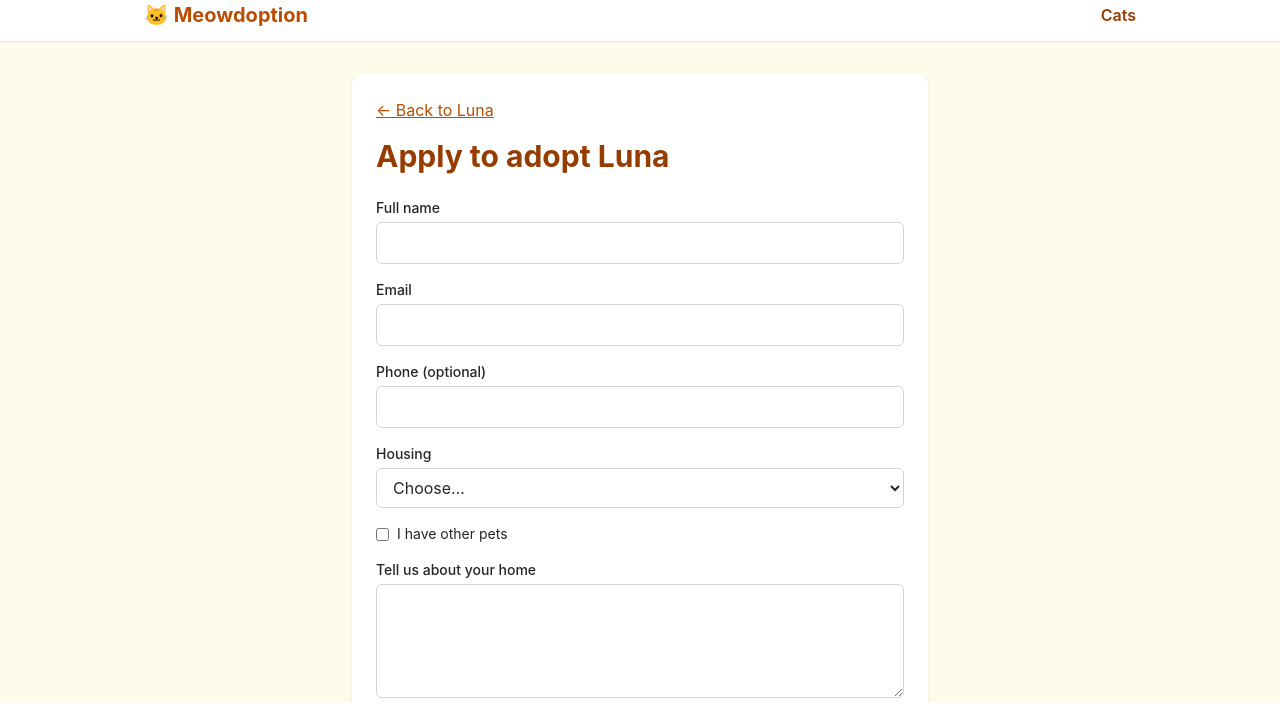
Test: ApplyPage › submits the form and thanks the visitor
Type "Jana Nováková" into the field labelled "Full name" at x=640, y=243, box [376,222,904,264]
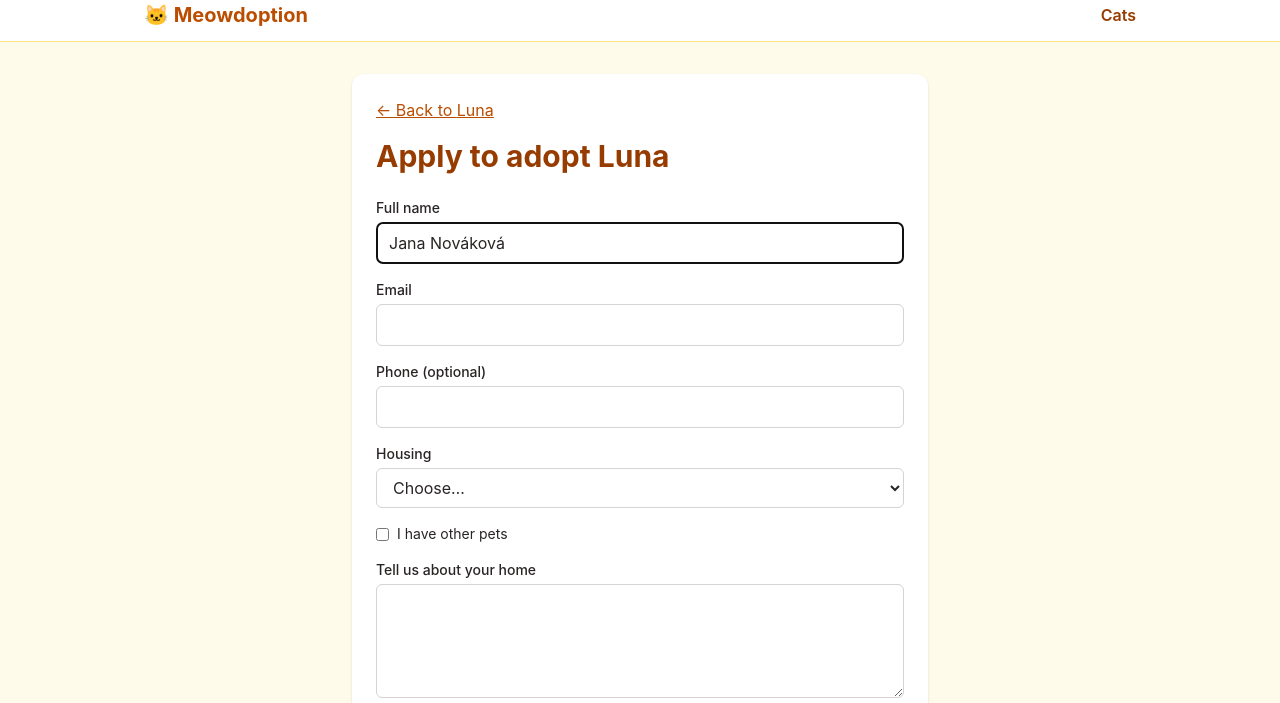
Type "jana@example.com" into the field labelled "Email" at x=640, y=325, box [376,304,904,346]
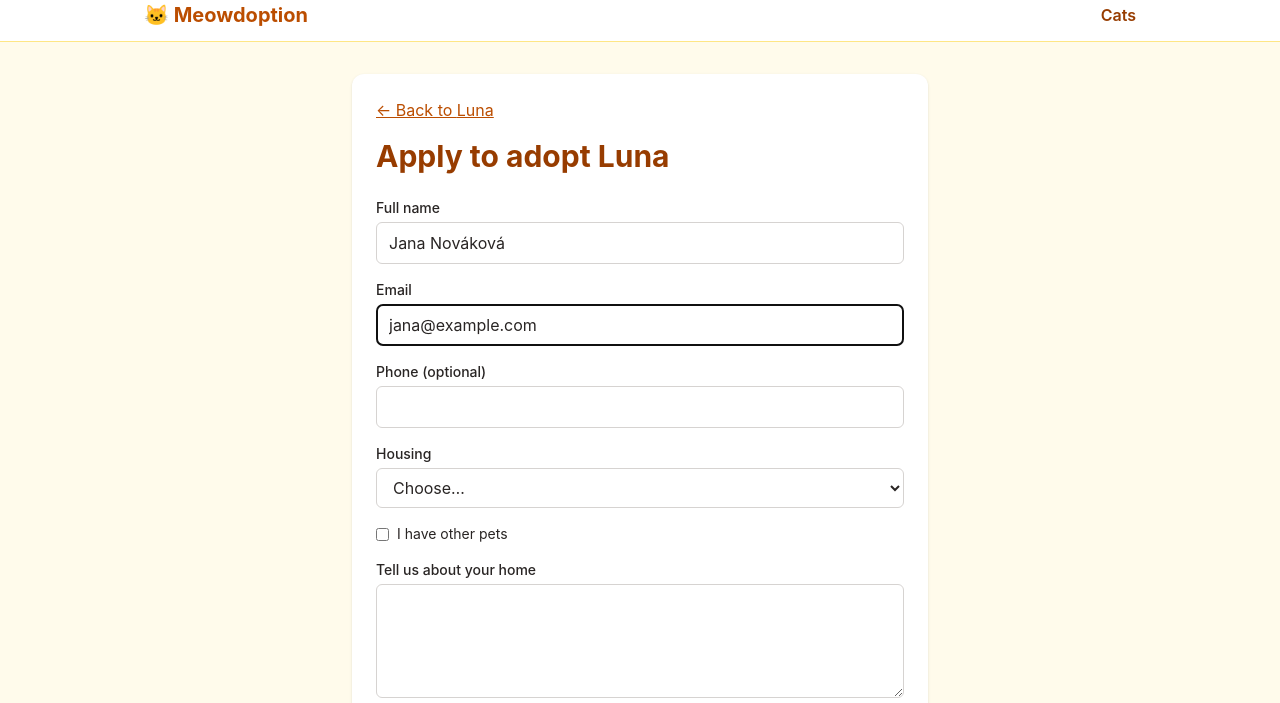
Select "Apartment" in the dropdown labelled "Housing" at x=640, y=488, box [376,468,904,508]
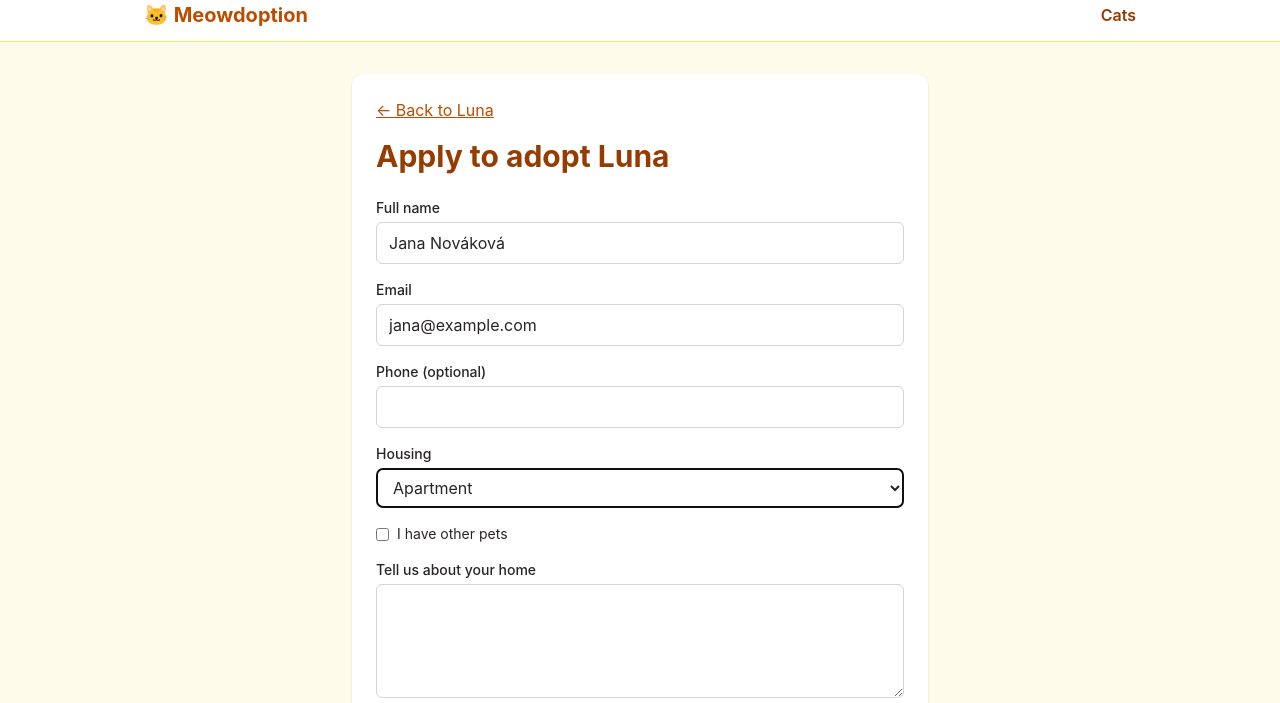
Click the checkbox labelled "I have other pets" at x=382, y=534, box [376,528,389,540]
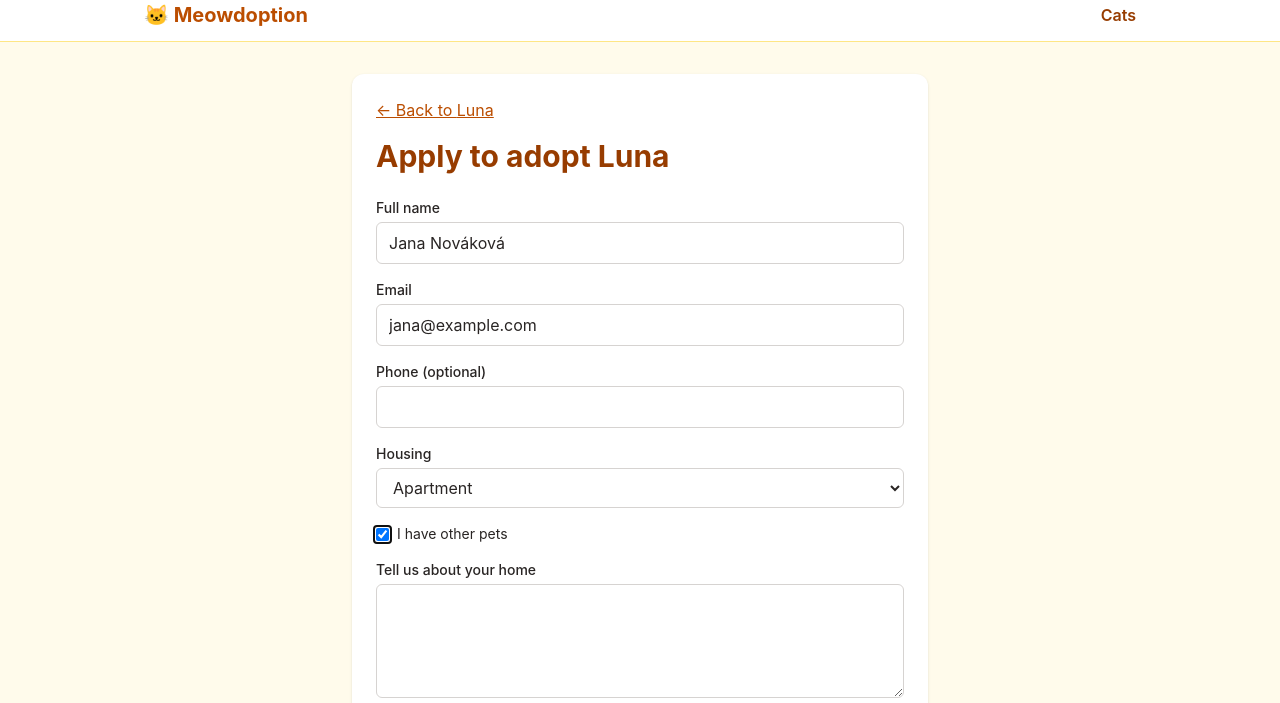
Type "Quiet flat." into the text box labelled "Tell us about your home" at x=640, y=641, box [376,584,904,698]
(page scrolled)
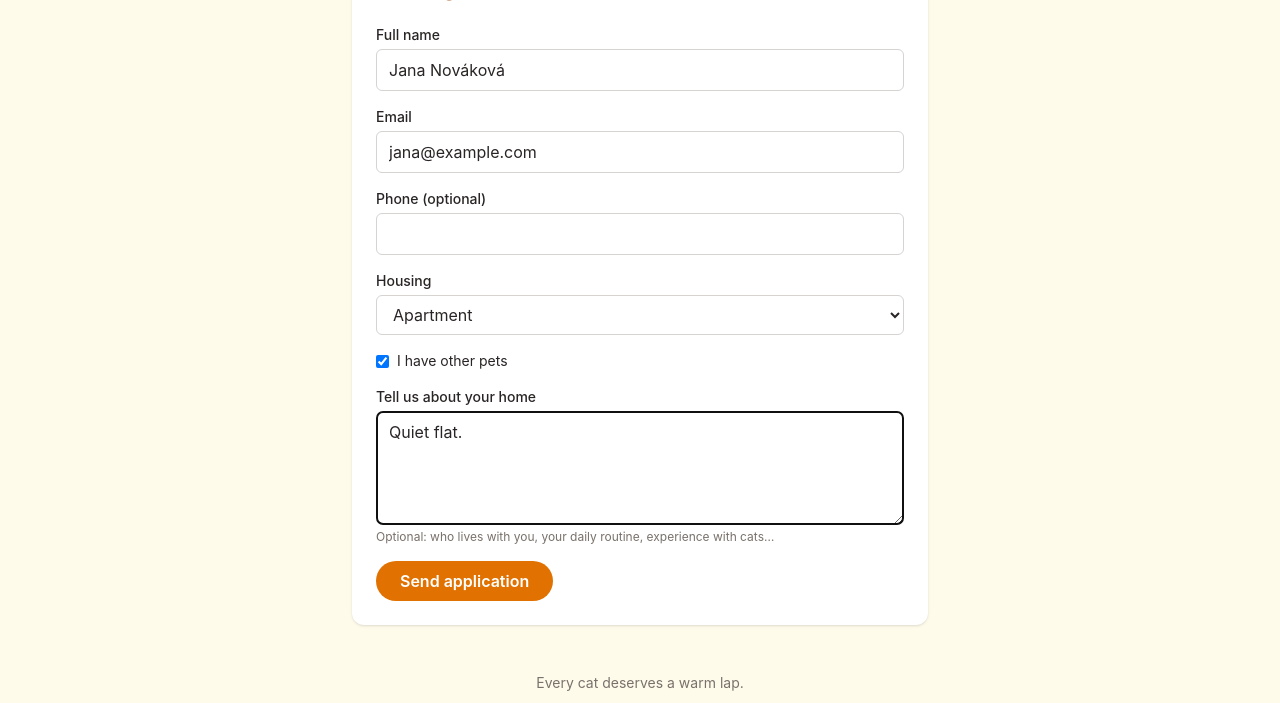
Click the button "Send application" at x=465, y=581, box [376,561,553,601]
(page scrolled)
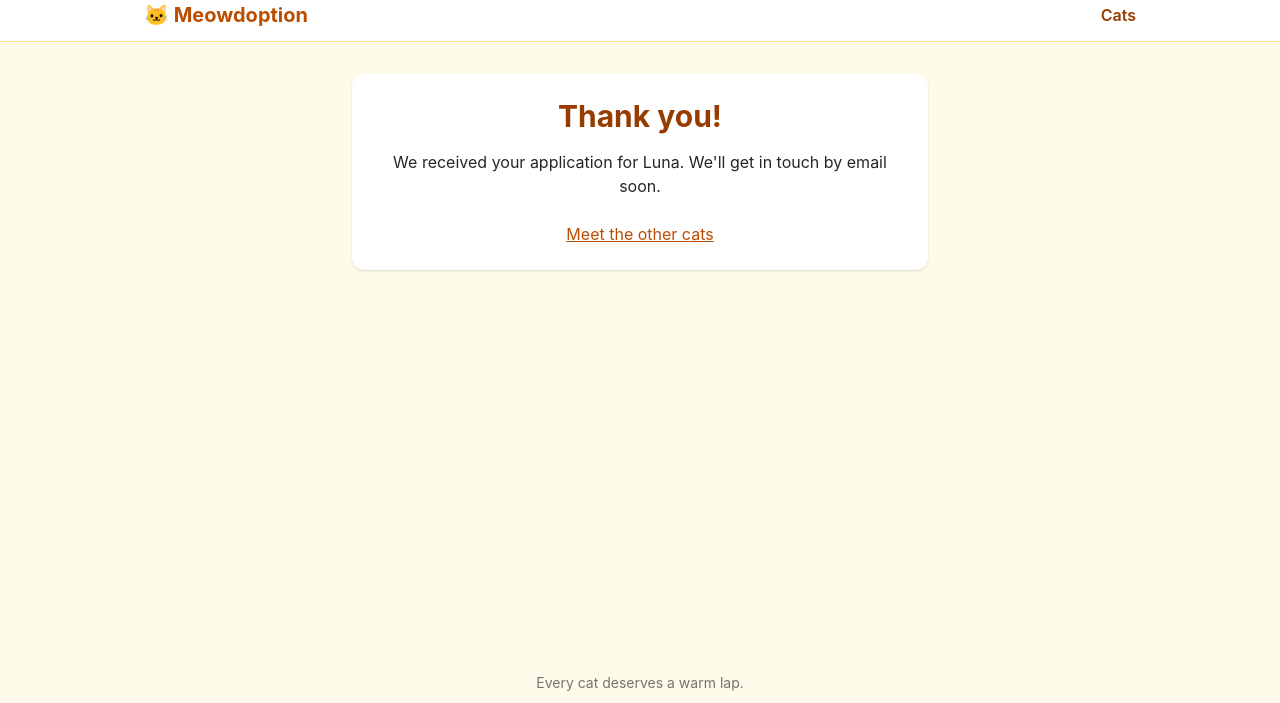
Expected: the heading "Thank you!" is shown, [558,98,722,134]
Expected: the text "application for Luna" is shown, [376,150,904,198]
